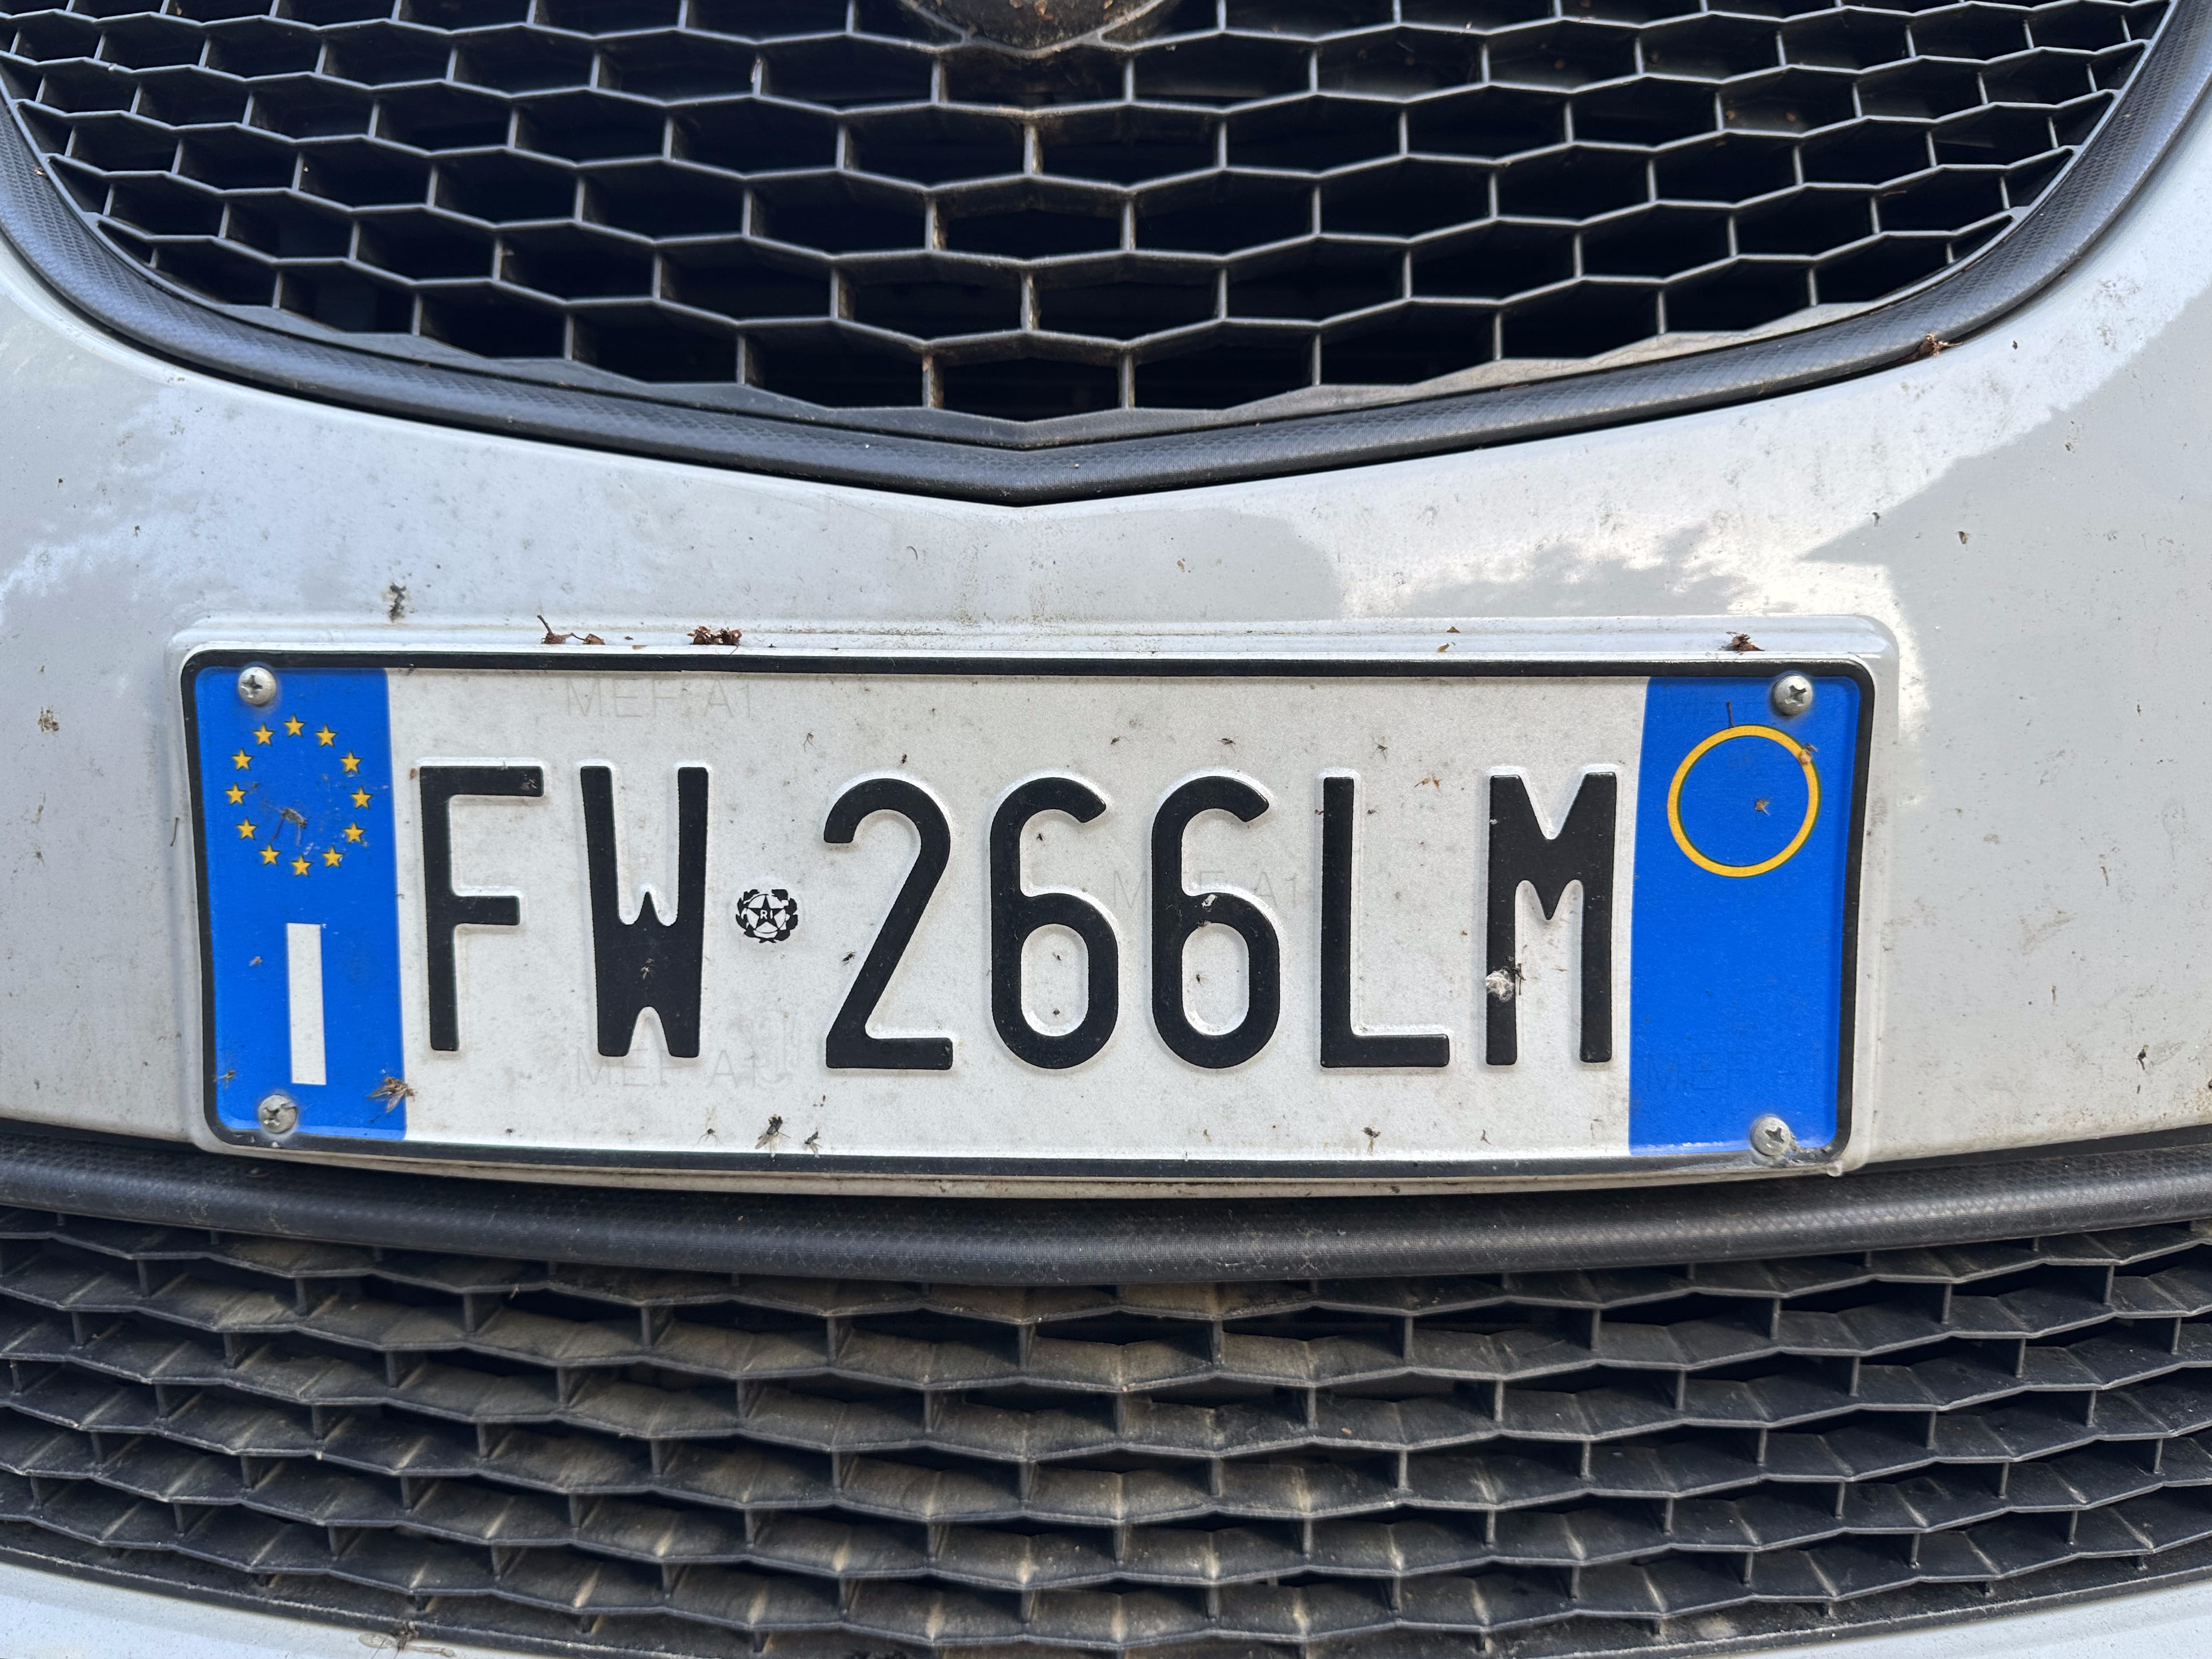license-plate: (179, 646, 1880, 1180)
